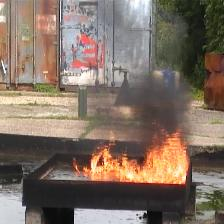fire: (73, 121, 190, 184)
